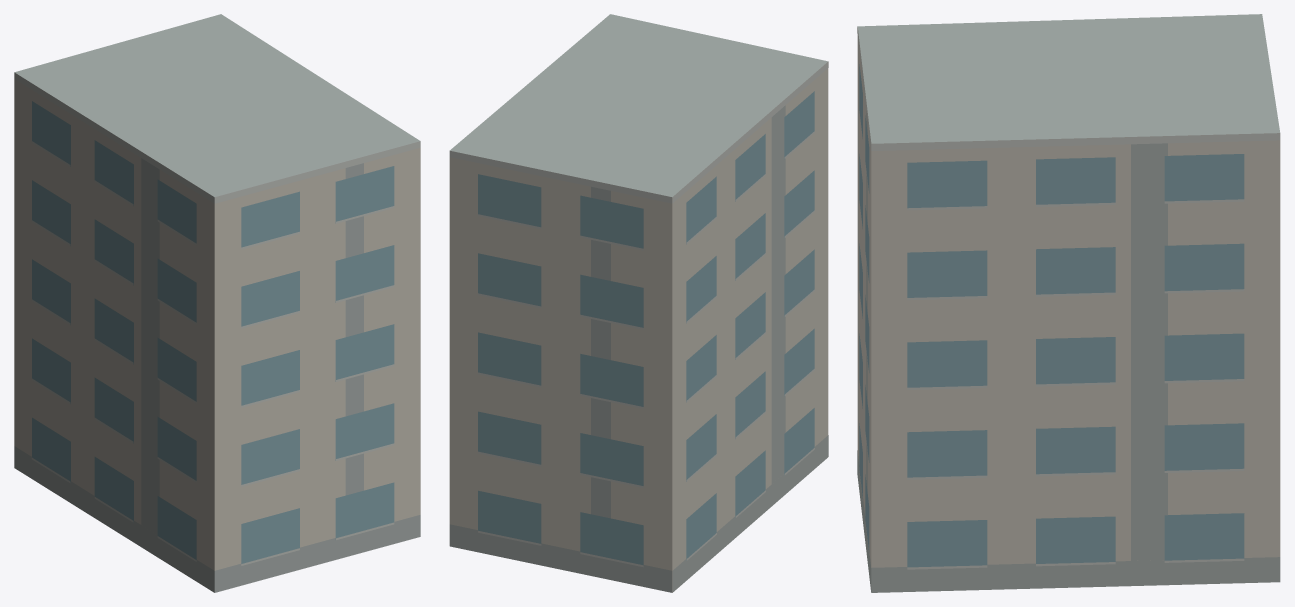
Rendered from survey-upis-32938033.glb.
3 views of the same model, side by side, from view 1: azimuth 30°, elevation 25°; view 2: azimuth 150°, elevation 25°; view 3: azimuth 270°, elevation 25° (orthographic). The views are drawn at different scales.
Parts seen in each view (by area): view 1: survey-upis-32938033.tmp; view 2: survey-upis-32938033.tmp; view 3: survey-upis-32938033.tmp.
Part boxes in pixels (box(x1,y1,x2,y2)): survey-upis-32938033.tmp: box(14, 14, 420, 592); survey-upis-32938033.tmp: box(449, 14, 828, 592); survey-upis-32938033.tmp: box(857, 14, 1280, 592).
Bounding box in the file's own units: 9.24 × 14.9 × 12.72.
